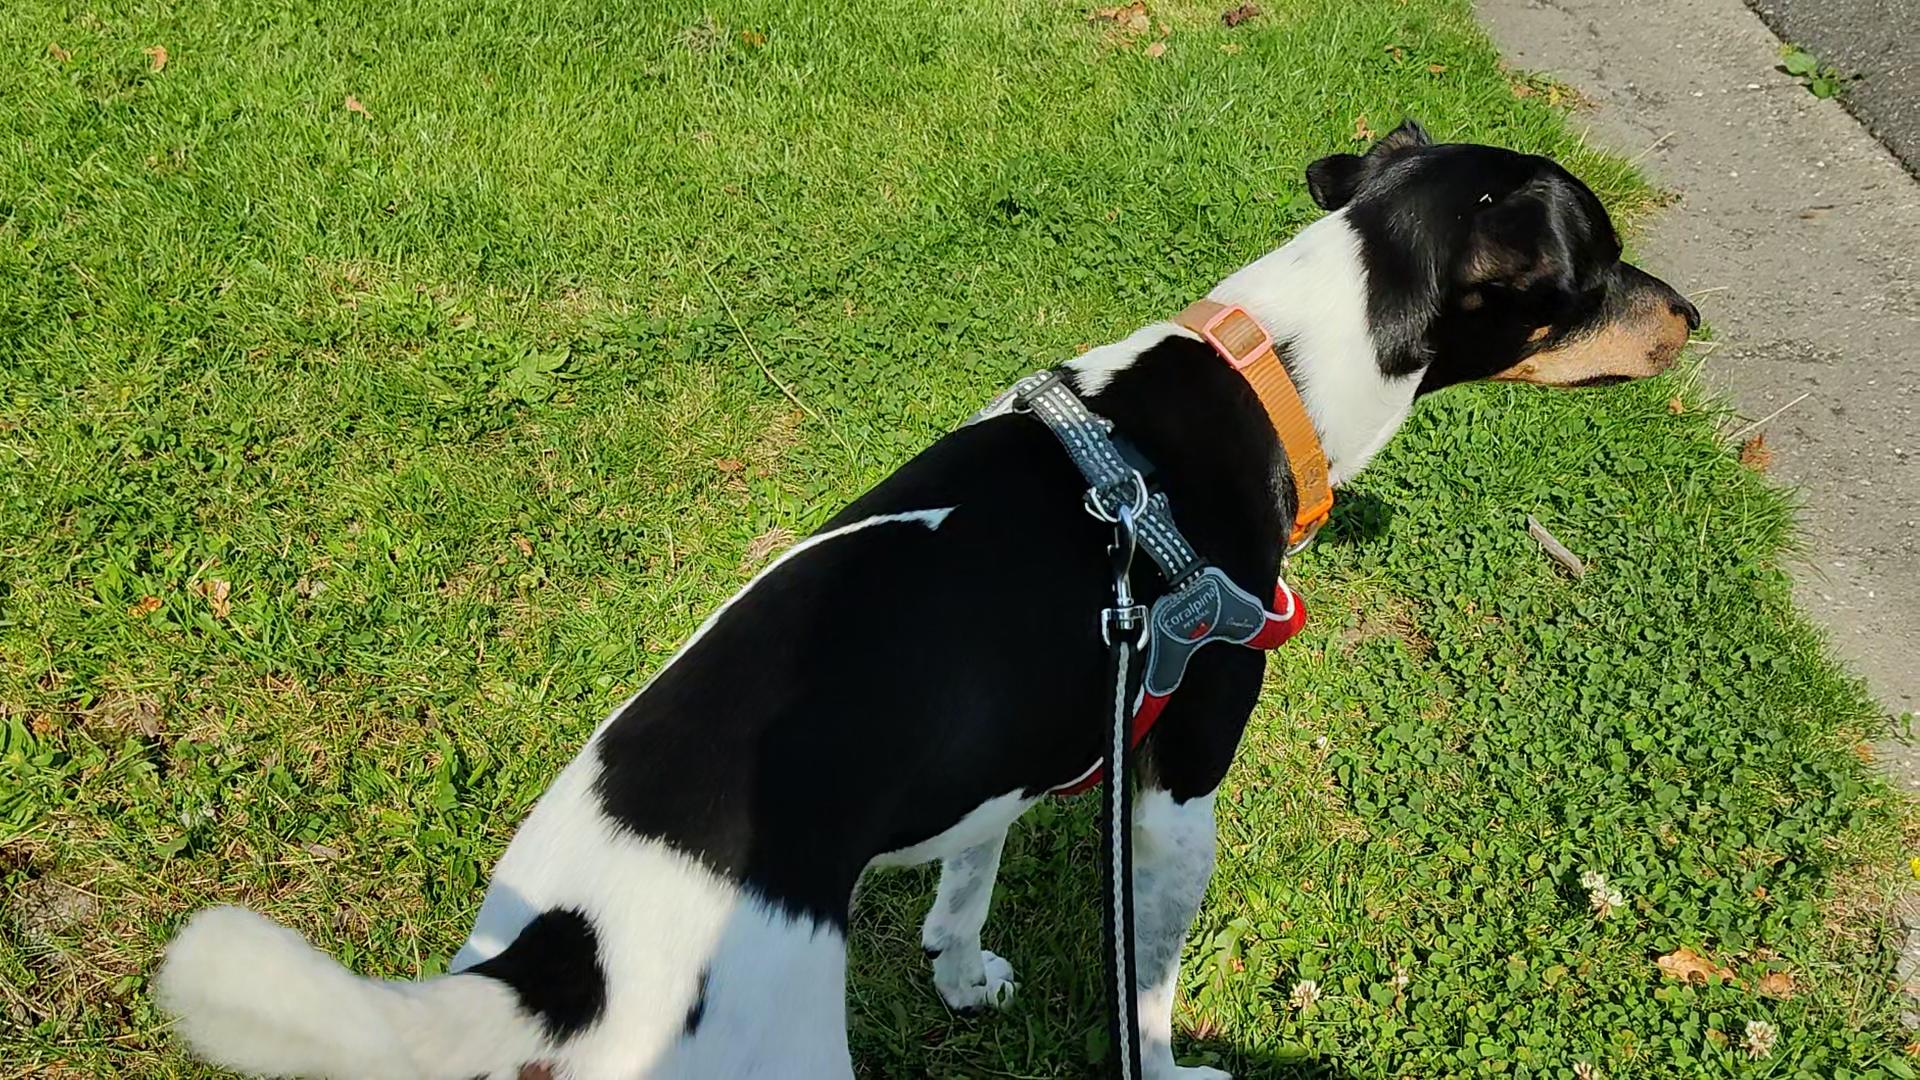Dog: (128, 105, 1712, 1079)
